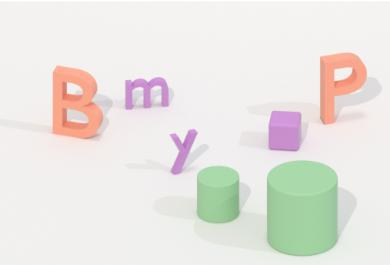0-KhoiTru: (264, 156, 342, 260), (194, 162, 242, 228)
0-KhoiVuong: (264, 106, 306, 155)
B: (49, 60, 108, 142)
P: (318, 48, 370, 127)
m: (120, 71, 174, 113)
y: (165, 127, 200, 176)
